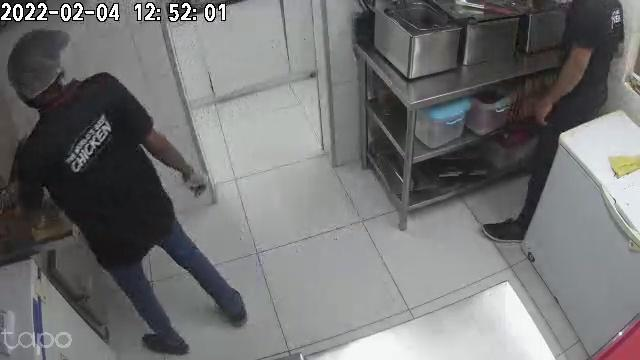gloves: (173, 160, 210, 195)
